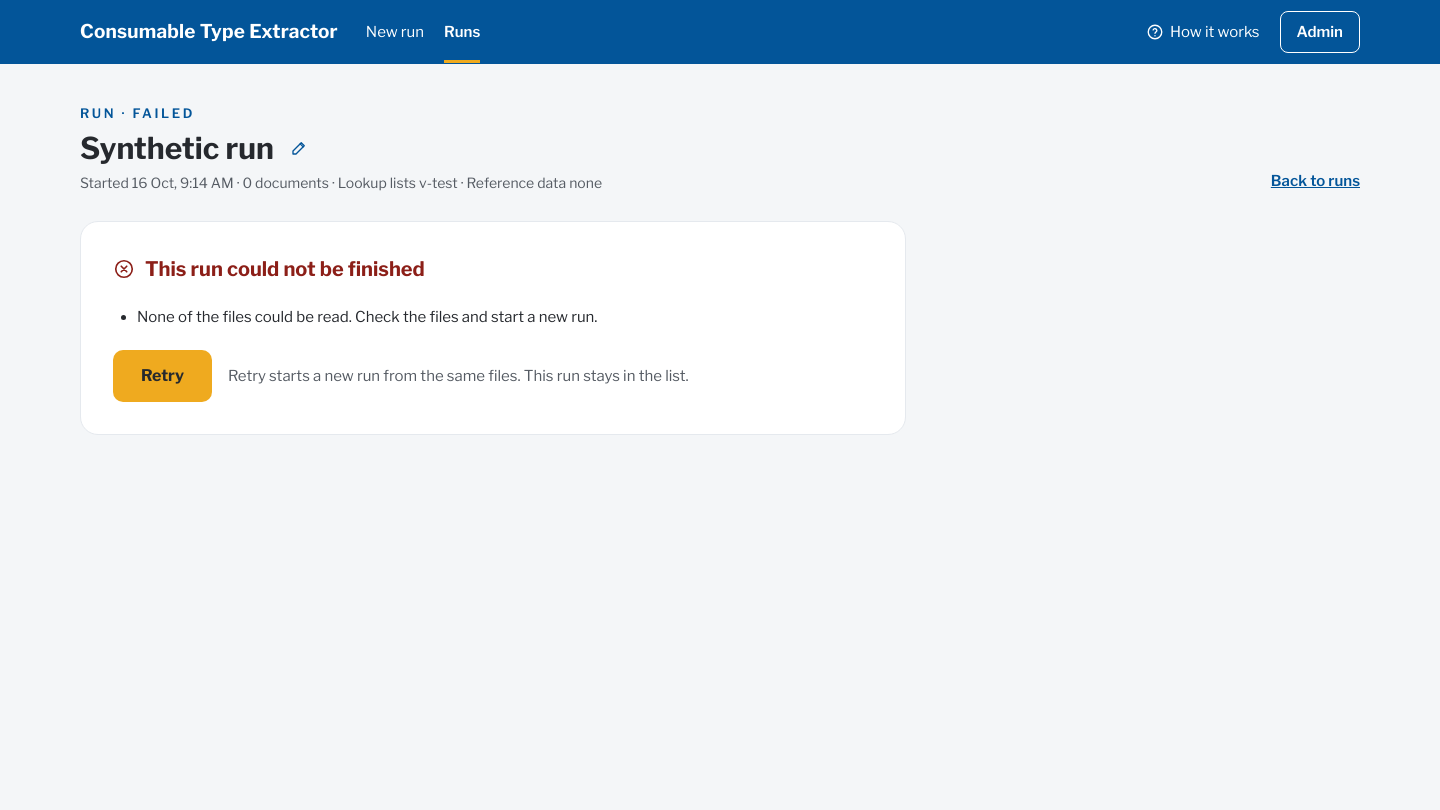
Scenario: Processing screen failed state › Retry starts a new run and opens it
Click the button "Retry" at coordinates (162, 376), box x1=113 y1=350 x2=212 y2=402
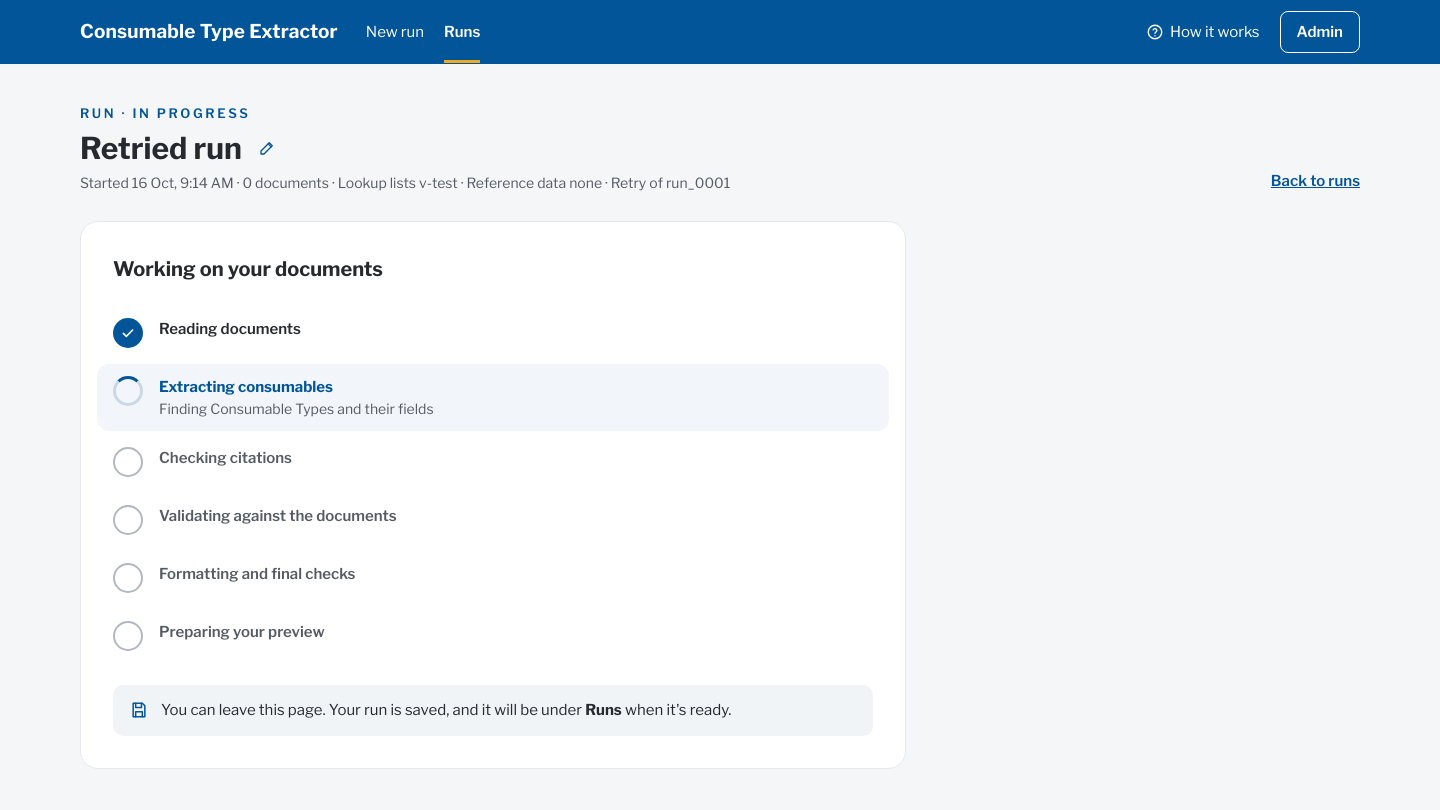
Now the heading "Retried run" is shown, box x1=80 y1=130 x2=242 y2=166
Now the text "Retry of run_0001" is shown, box x1=80 y1=174 x2=730 y2=190
